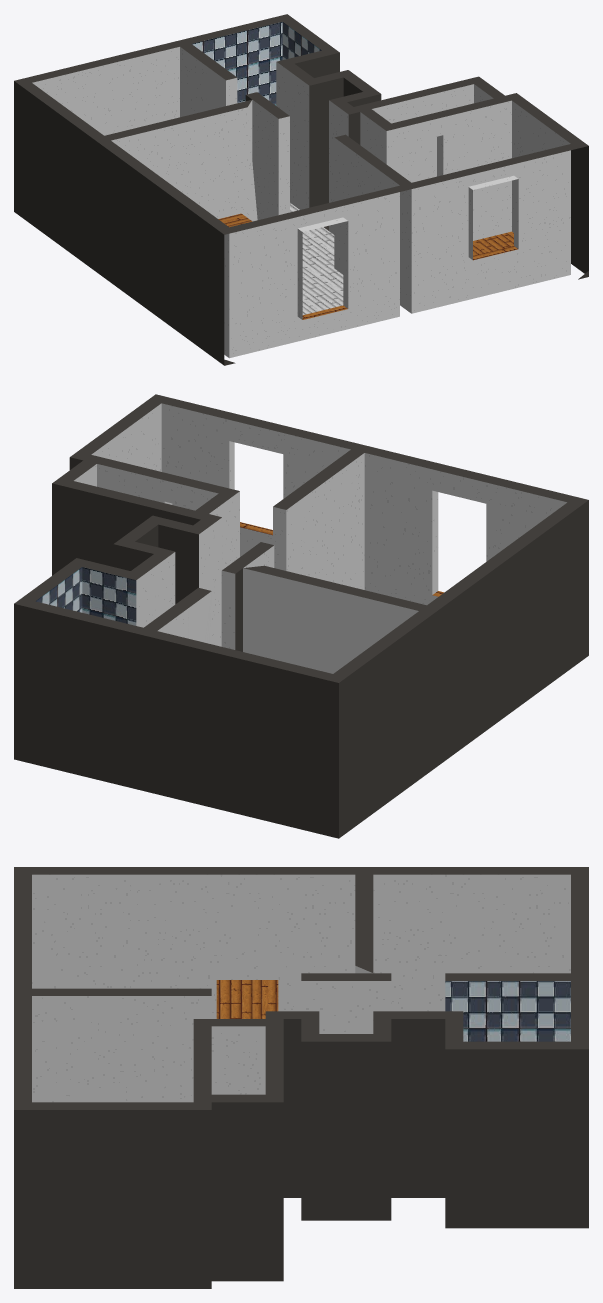
File: apartment.glb
3 views of the same model, one above another, from view 1: azimuth 30°, elevation 25°; view 2: azimuth 150°, elevation 25°; view 3: azimuth 270°, elevation 25° (orthographic). The views are drawn at different scales.
Parts seen in each view (by area): view 1: Plane.002; view 2: Plane.002; view 3: Plane.002.
Boxes of the visible parts, x1=… form: Plane.002: x1=14, y1=14, x2=588, y2=365; Plane.002: x1=14, y1=394, x2=588, y2=838; Plane.002: x1=14, y1=867, x2=588, y2=1288.
Bounding box in the file's own units: 141 × 48.36 × 141.
6 materials, 4 textured.
